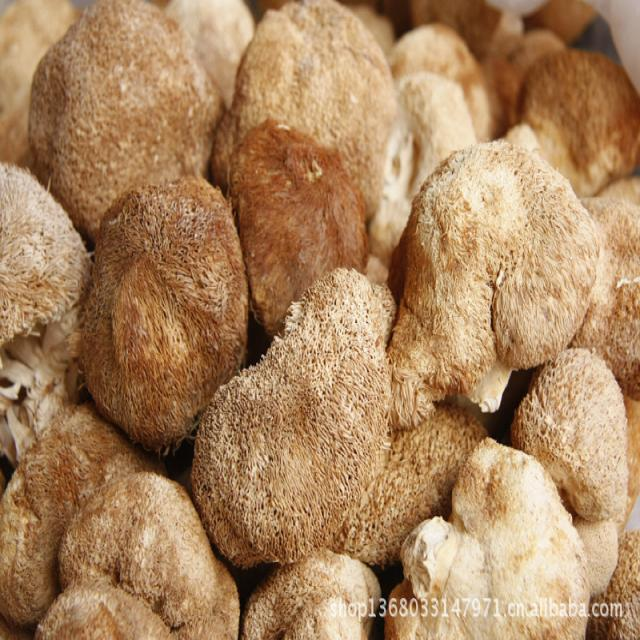Hericium erinaceus: (392, 140, 603, 419), (195, 269, 393, 566), (77, 170, 247, 447), (29, 0, 198, 236), (389, 440, 588, 640), (39, 466, 241, 639), (0, 405, 155, 623), (218, 123, 368, 322), (520, 351, 629, 528), (0, 164, 91, 341), (242, 546, 379, 640)
